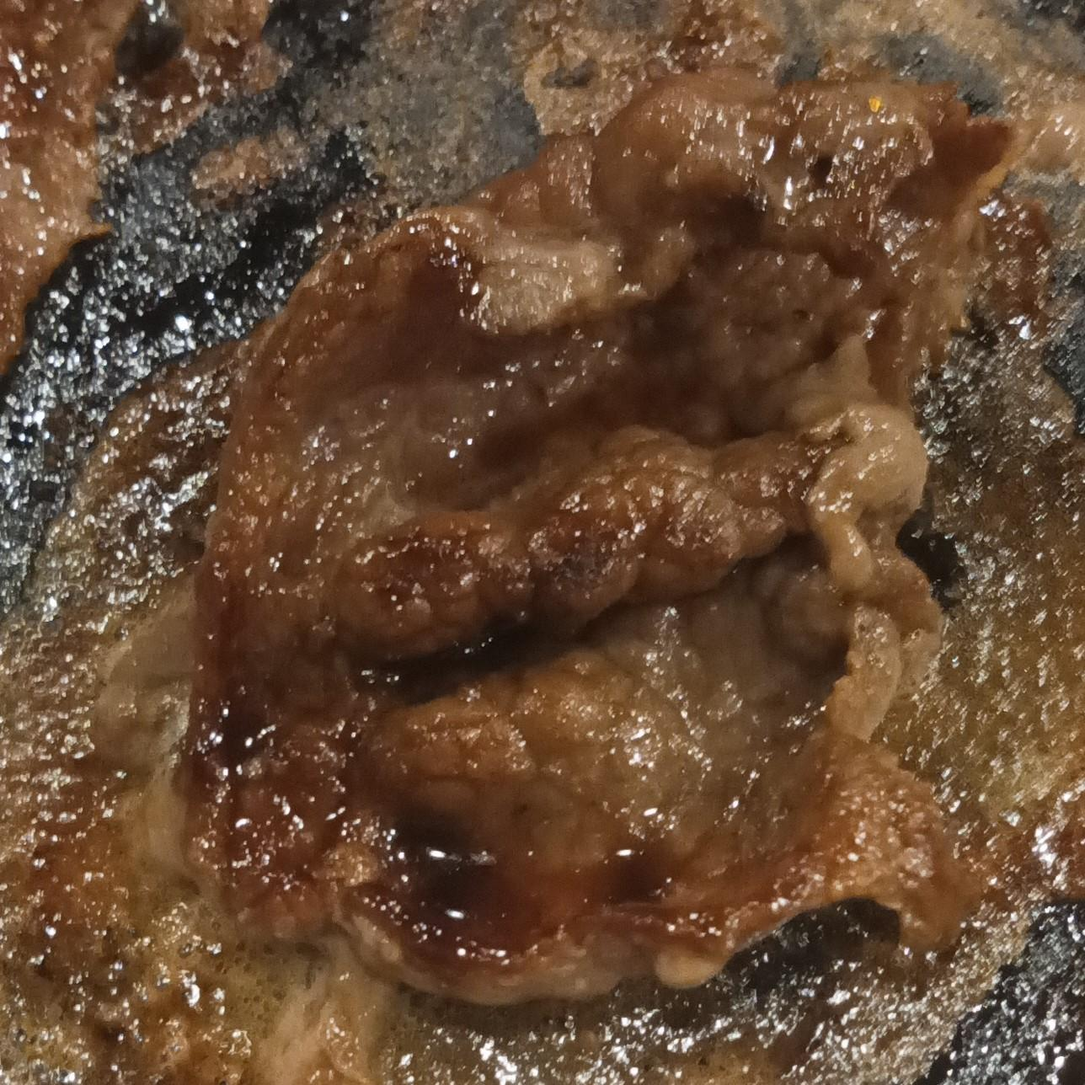Overcooked: (168, 68, 1018, 1010)
